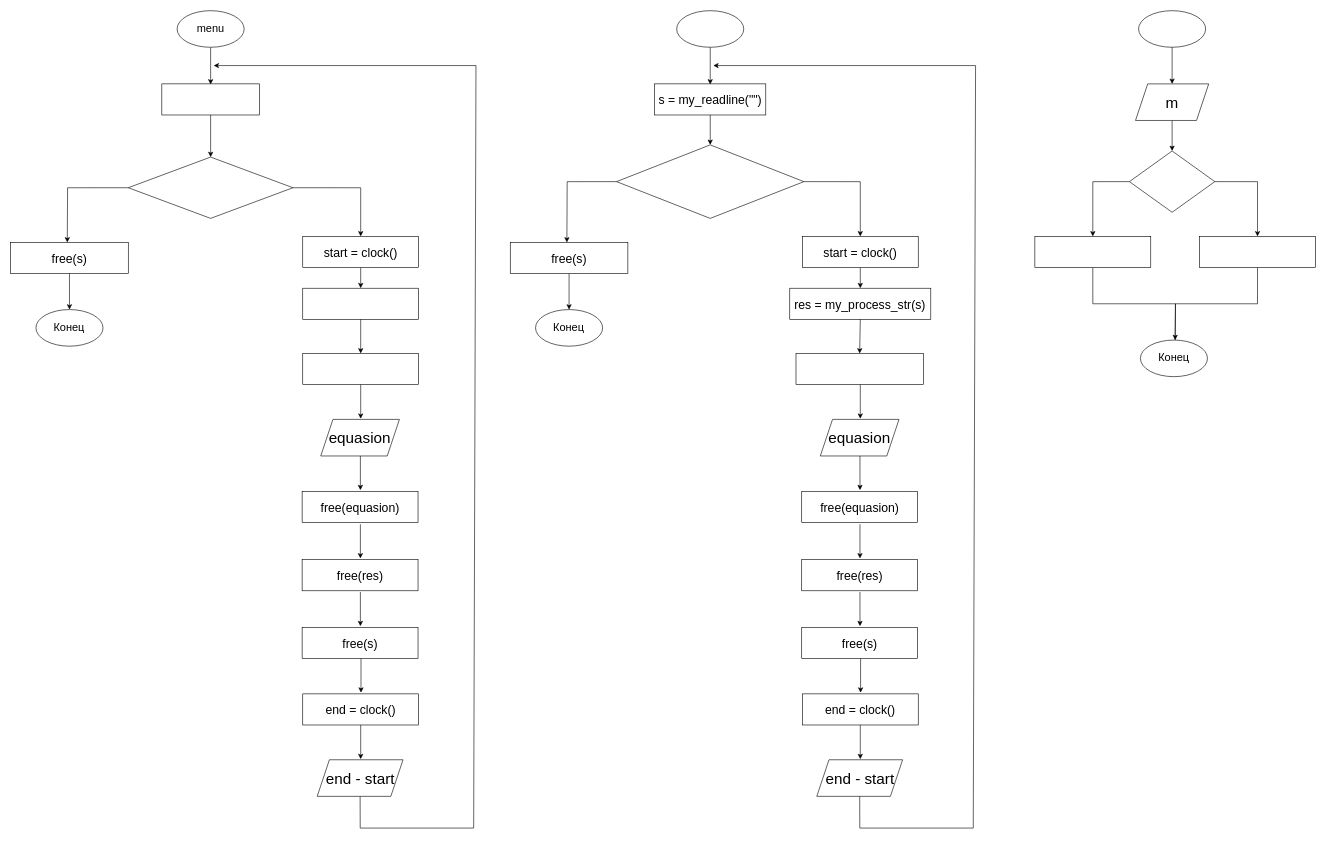
Image size: 1326x844. Some labels were removed from this diagram. Here are the shapes that lost their labels. From the top down, the centre of each, then its label:
point 710,28: my_menu
point 1172,28: main
point 210,99: s = readline("")
point 210,187: s == NULL || strlen(s) < 1
point 710,181: s == NULL || my_strlen(s) < 1
point 1172,181: m == 0
point 1092,251: my_menu()
point 1257,251: menu()
point 360,303: res = process_str(s)
point 360,369: equasion = id(res)
point 859,369: equasion = my_id(res)
